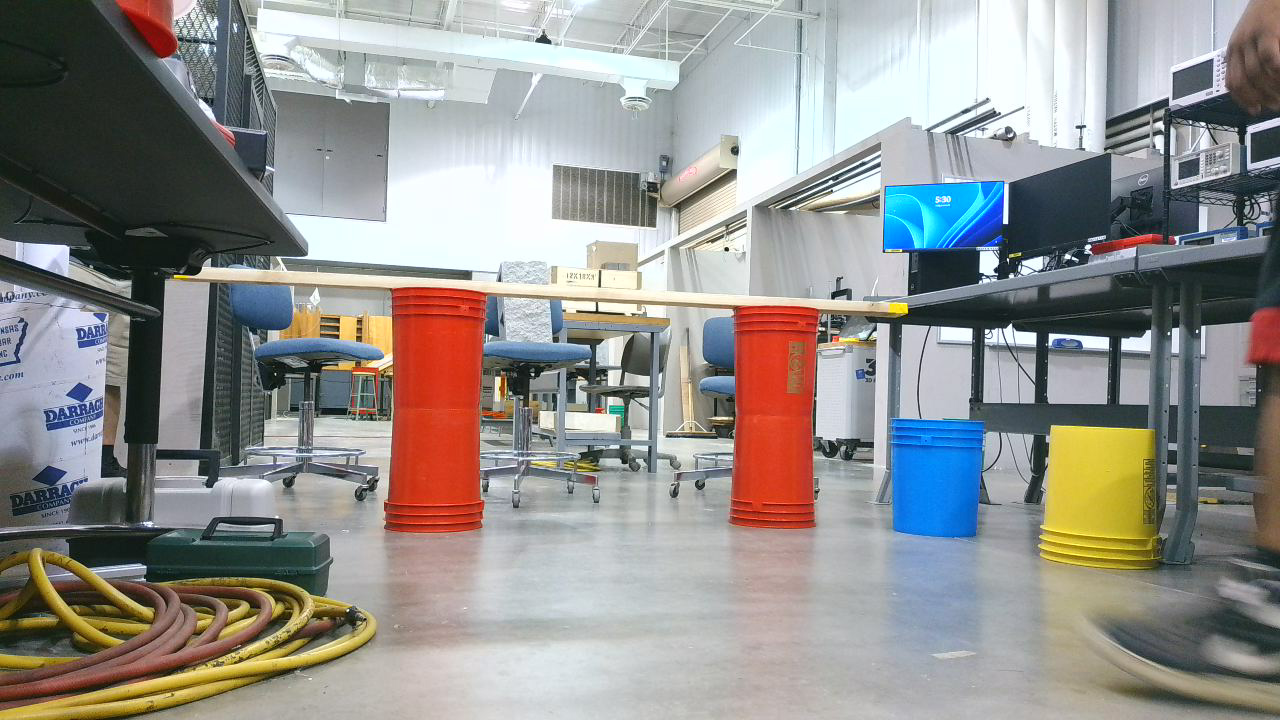blue_bucket: (891, 417, 992, 548)
red_bucket_arch: (384, 286, 828, 542)
yellow_bucket: (1037, 424, 1173, 580)
